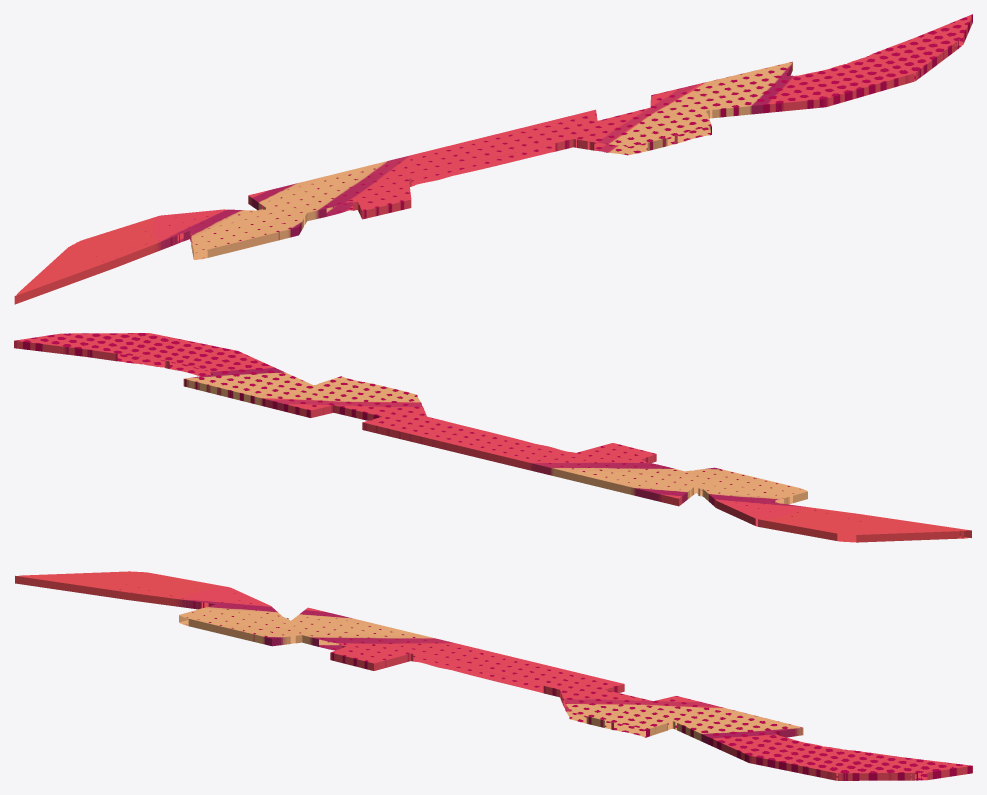
Rendered from gacok 1.fbx.
The picture shows the model from 3 angles, top to bottom: view 1: azimuth 30°, elevation 25°; view 2: azimuth 150°, elevation 25°; view 3: azimuth 330°, elevation 25°; orthographic projection. The views are drawn at different scales.
Visible parts, largest first — view 1: tes; view 2: tes; view 3: tes.
Boxes of the visible parts, x1,y1,x2,y2 form: tes: [14, 14, 972, 304]; tes: [14, 333, 971, 542]; tes: [15, 571, 972, 780].
Bounding box in the file's own units: 344 × 2.72 × 29.91.
